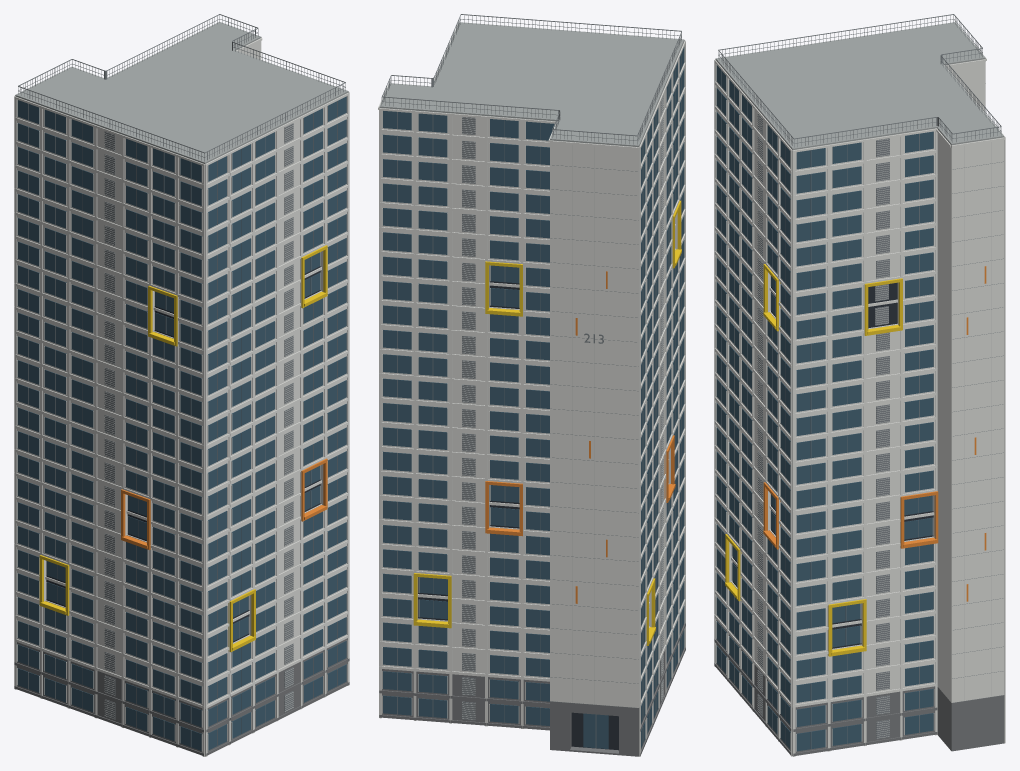
Rendered from bespoke-songpa-helio-city-213.glb.
3 views of the same model, side by side, from view 1: azimuth 30°, elevation 25°; view 2: azimuth 150°, elevation 25°; view 3: azimuth 270°, elevation 25° (orthographic). The views are drawn at different scales.
Parts seen in each view (by area): view 1: Helio213_editable_Helio213_dark_blue_grey_glazing, Helio213_editable_Helio213_white_slab_frames, Helio213_editable_Helio213_low_roof_deck, Helio213_editable_Helio213_grey_service_grille, Helio213_editable_Helio213_dark_grey_twofloor_base, Helio213_editable_Helio213_blankwall_grey_panels, Helio213_editable_Helio213_yellow_projecting_rectangular_fra, Helio213_editable_Helio213_orange_narrow_accent, Helio213_editable_Helio213_deep_shaded_frame_recess; view 2: Helio213_editable_Helio213_white_slab_frames, Helio213_editable_Helio213_dark_blue_grey_glazing, Helio213_editable_Helio213_low_roof_deck, Helio213_editable_Helio213_grey_service_grille, Helio213_editable_Helio213_dark_grey_twofloor_base, Helio213_editable_Helio213_blankwall_grey_panels, Helio213_editable_Helio213_yellow_projecting_rectangular_fra, Helio213_editable_Helio213_deep_shaded_frame_recess, Helio213_editable_Helio213_orange_narrow_accent; view 3: Helio213_editable_Helio213_white_slab_frames, Helio213_editable_Helio213_dark_blue_grey_glazing, Helio213_editable_Helio213_low_roof_deck, Helio213_editable_Helio213_grey_service_grille, Helio213_editable_Helio213_dark_grey_twofloor_base, Helio213_editable_Helio213_blankwall_grey_panels, Helio213_editable_Helio213_yellow_projecting_rectangular_fra, Helio213_editable_Helio213_orange_narrow_accent, Helio213_editable_Helio213_deep_shaded_frame_recess.
Boxes of the visible parts, x1,y1,x2,y2 form: Helio213_editable_Helio213_dark_blue_grey_glazing: (17, 96, 346, 750); Helio213_editable_Helio213_white_slab_frames: (14, 37, 349, 756); Helio213_editable_Helio213_low_roof_deck: (15, 22, 348, 163); Helio213_editable_Helio213_grey_service_grille: (18, 14, 345, 746); Helio213_editable_Helio213_dark_grey_twofloor_base: (14, 638, 349, 755); Helio213_editable_Helio213_blankwall_grey_panels: (104, 123, 293, 719); Helio213_editable_Helio213_yellow_projecting_rectangular_fra: (39, 245, 327, 652); Helio213_editable_Helio213_orange_narrow_accent: (121, 458, 327, 549); Helio213_editable_Helio213_deep_shaded_frame_recess: (46, 266, 320, 642); Helio213_editable_Helio213_white_slab_frames: (378, 23, 685, 756); Helio213_editable_Helio213_dark_blue_grey_glazing: (383, 47, 684, 748); Helio213_editable_Helio213_low_roof_deck: (379, 22, 684, 146); Helio213_editable_Helio213_grey_service_grille: (381, 14, 681, 747); Helio213_editable_Helio213_dark_grey_twofloor_base: (379, 623, 685, 756); Helio213_editable_Helio213_blankwall_grey_panels: (462, 96, 663, 719); Helio213_editable_Helio213_yellow_projecting_rectangular_fra: (413, 200, 681, 645); Helio213_editable_Helio213_deep_shaded_frame_recess: (418, 265, 618, 750); Helio213_editable_Helio213_orange_narrow_accent: (485, 271, 675, 603); Helio213_editable_Helio213_white_slab_frames: (714, 23, 1005, 756); Helio213_editable_Helio213_dark_blue_grey_glazing: (716, 65, 933, 751); Helio213_editable_Helio213_low_roof_deck: (715, 22, 1004, 149); Helio213_editable_Helio213_grey_service_grille: (718, 14, 1003, 748); Helio213_editable_Helio213_dark_grey_twofloor_base: (714, 620, 1004, 756); Helio213_editable_Helio213_blankwall_grey_panels: (757, 113, 991, 738); Helio213_editable_Helio213_yellow_projecting_rectangular_fra: (725, 264, 902, 656); Helio213_editable_Helio213_orange_narrow_accent: (763, 266, 986, 601); Helio213_editable_Helio213_deep_shaded_frame_recess: (732, 282, 933, 648).
Bounding box in the file's own units: 31.61 × 71 × 30.39.
